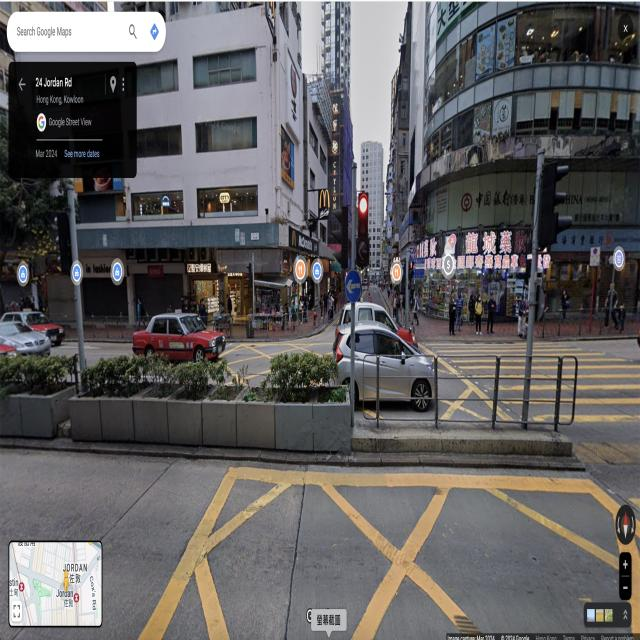Order-Sign: (345, 270, 361, 302)
